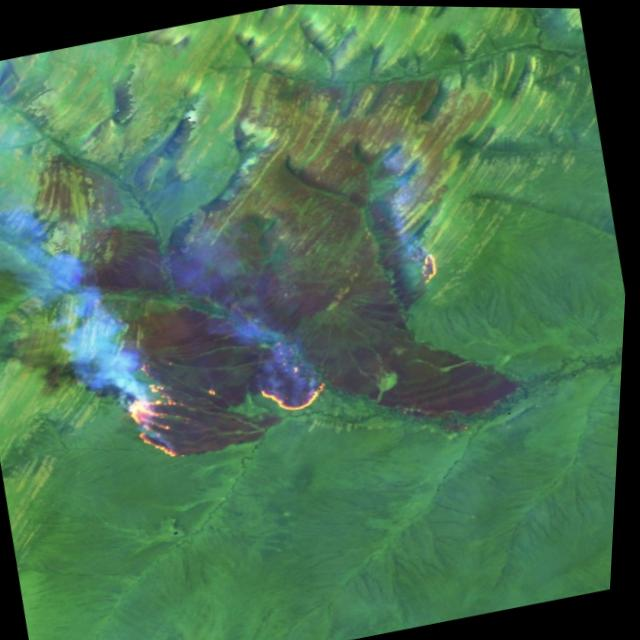fire: (107, 320, 353, 478), (409, 242, 453, 287)
